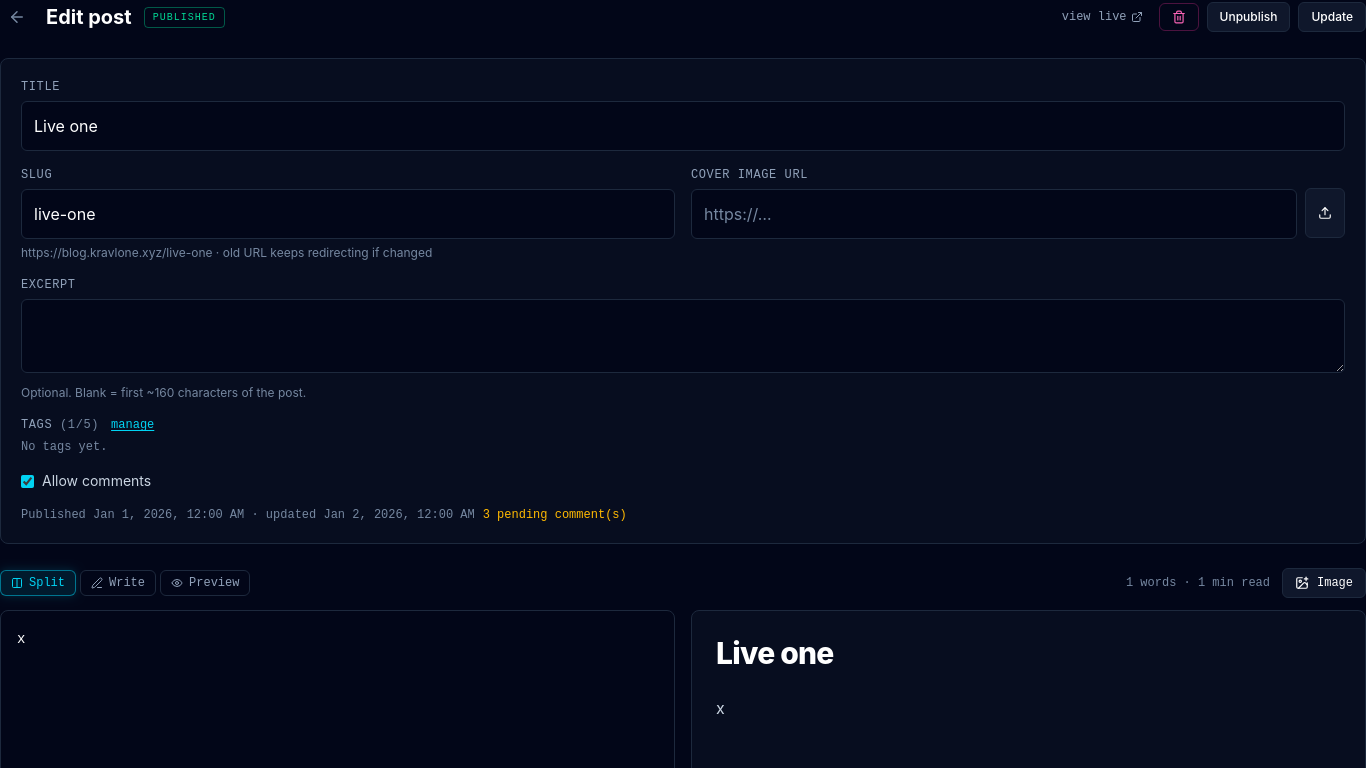
BLG-31/32 editor views and actions › BLG-31 write / preview toggle shows one pane at a time
Click the button "Write" at [118, 583], box left=80, top=570, right=156, bottom=596
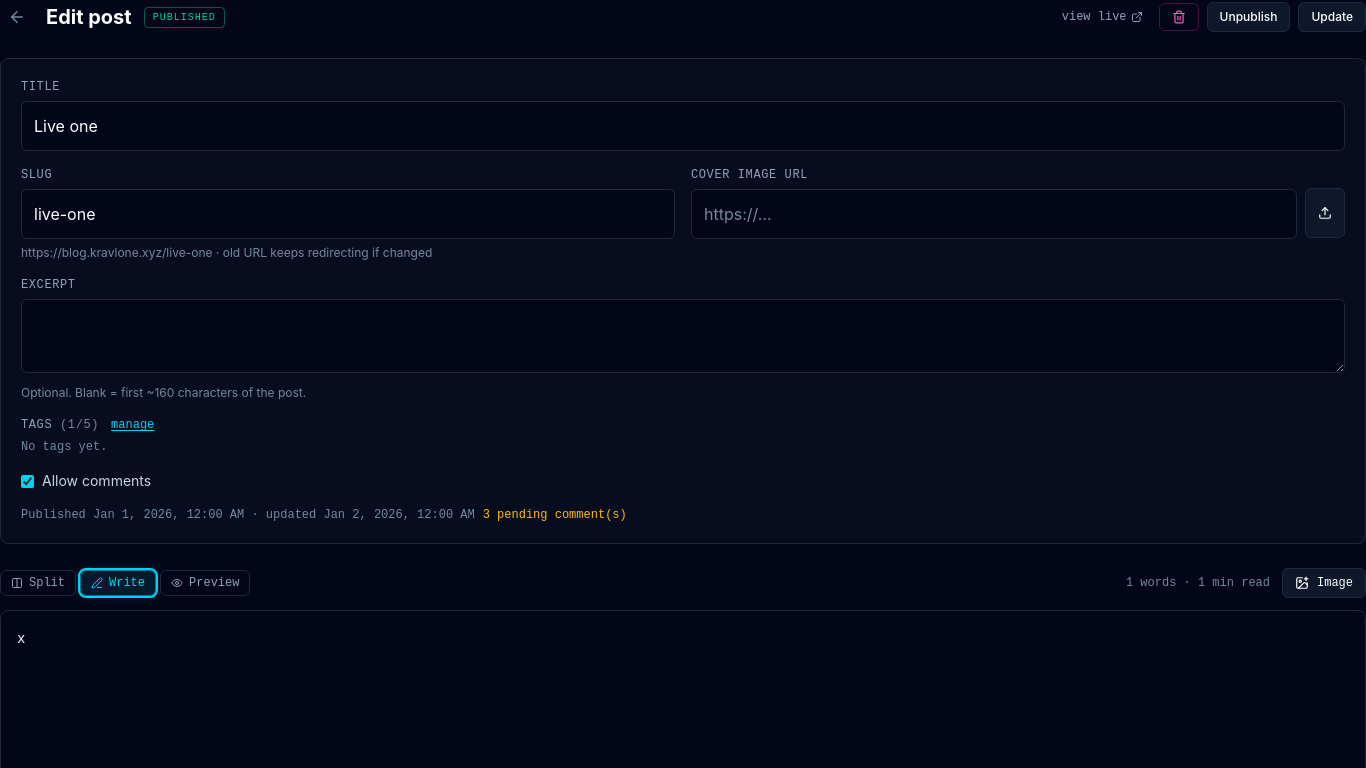
Click the button "Preview" at [205, 583], box left=160, top=570, right=250, bottom=596
(page scrolled)
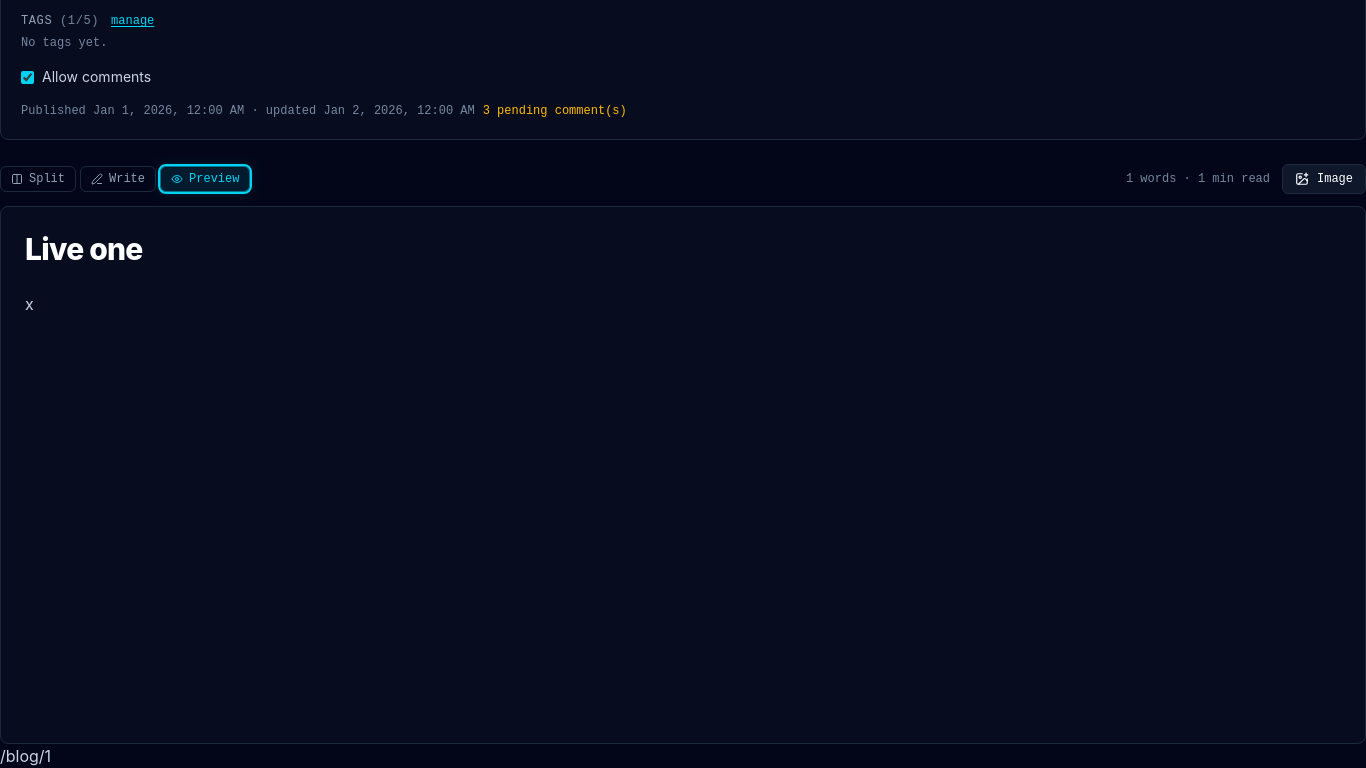
Expected: the field labelled "Content (Markdown)" is not shown
Result: the element named "Preview" is shown
